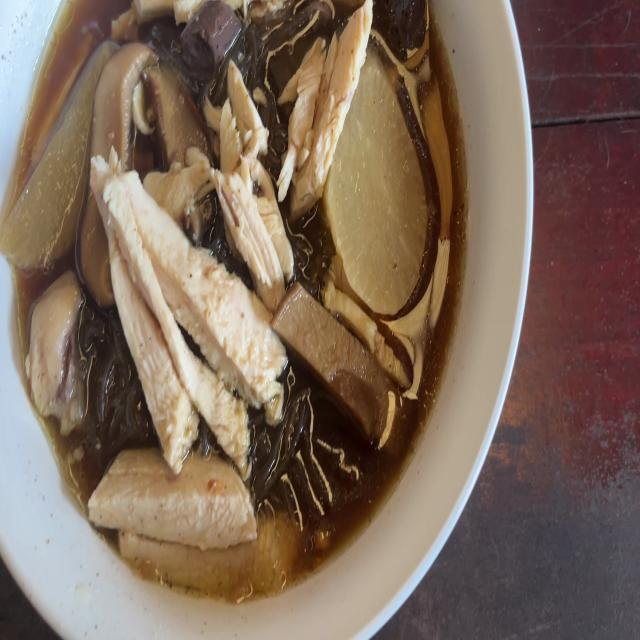noodle: (176, 0, 239, 83), (371, 0, 431, 61)
